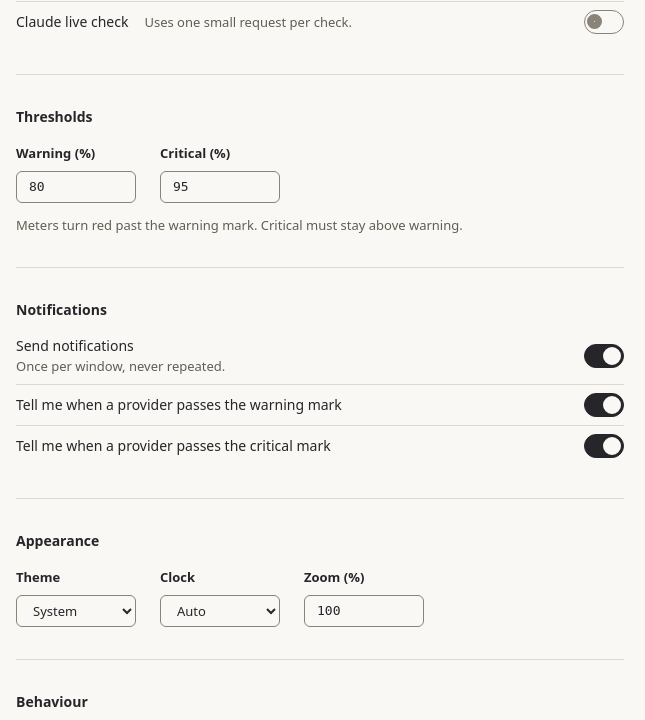
Settings sections › disables the level switches while notifications are off
(page scrolled)
Click the switch labelled "Send notifications" at (75, 346), box x1=16 y1=336 x2=624 y2=384
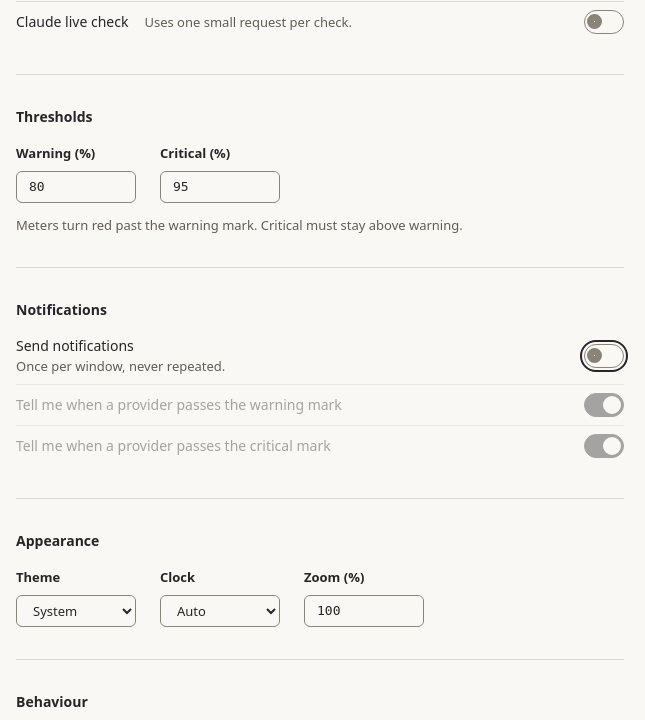
Now the switch labelled "Tell me when a provider passes the warning mark" is disabled, box x1=16 y1=384 x2=624 y2=425
Now the switch labelled "Tell me when a provider passes the critical mark" is disabled, box x1=16 y1=425 x2=624 y2=466
